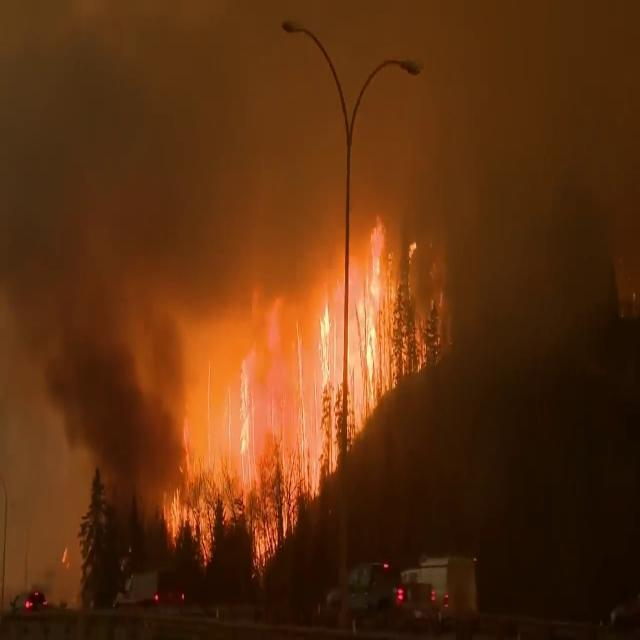Fire: (217, 255, 355, 550), (316, 214, 436, 471)
Smoke: (365, 0, 638, 501), (5, 0, 246, 494)
